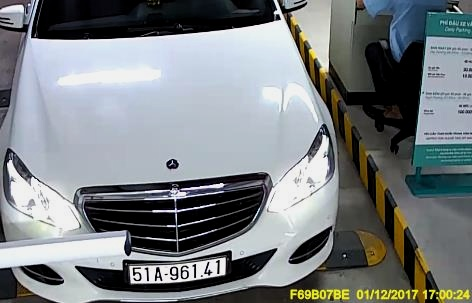plate: (126, 258, 227, 285)
